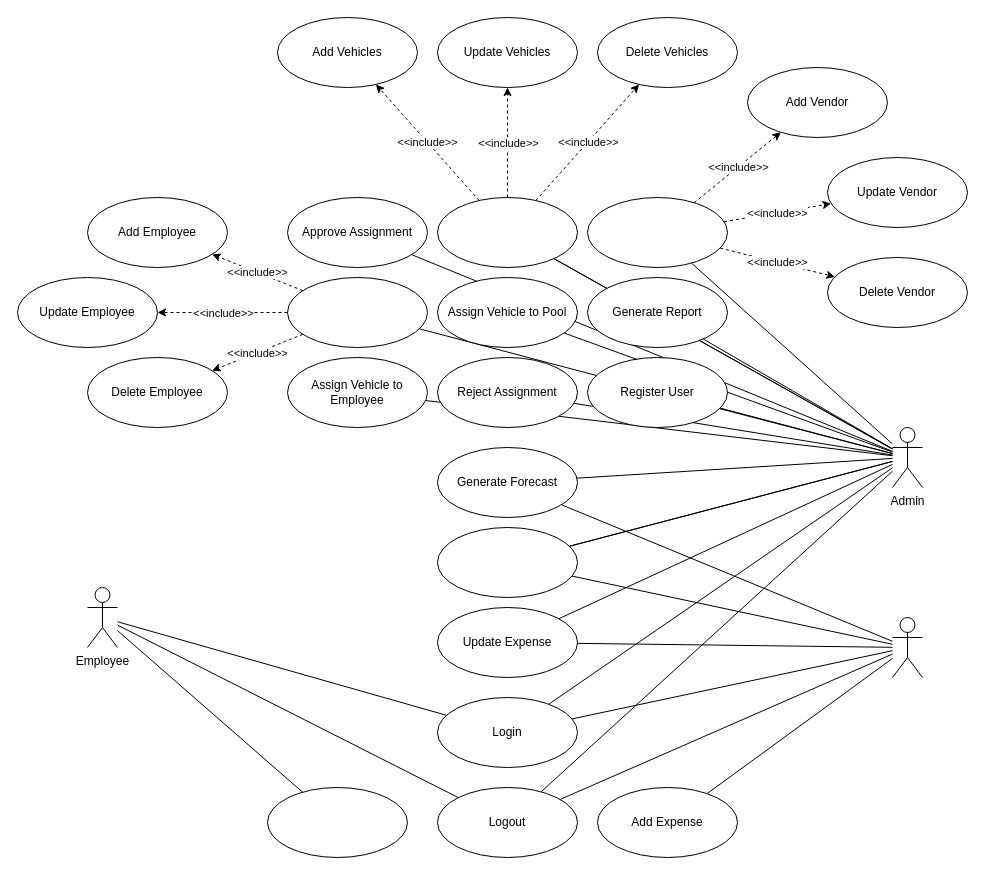
The diagram is 985 pixels wide and 875 high, and some of its shapes have lost their labels. The shapes that lost their labels are listed below. From the top down, each one's centre as x and y in pixels, then its label:
At point 507,232: "Manage Vehicles".
At point 657,232: "Manage Vendors".
At point 357,312: "Manage Employees".
At point 507,562: "Delete Expense".
At point 907,647: "Vendor".
At point 337,822: "Enter Odometer Reading".
